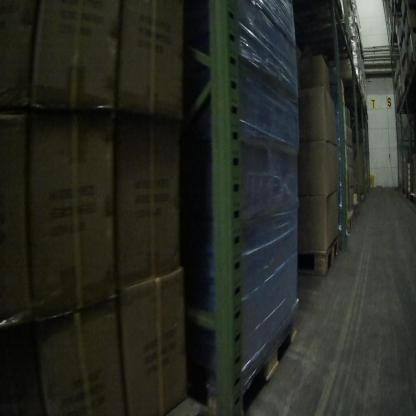pallet: (201, 311, 307, 416), (281, 227, 344, 287), (284, 22, 353, 60), (162, 383, 206, 416), (290, 1, 348, 16), (336, 73, 363, 100), (339, 210, 356, 240), (403, 69, 415, 102), (396, 93, 413, 116), (389, 0, 407, 17), (407, 55, 415, 83), (407, 24, 416, 45)
